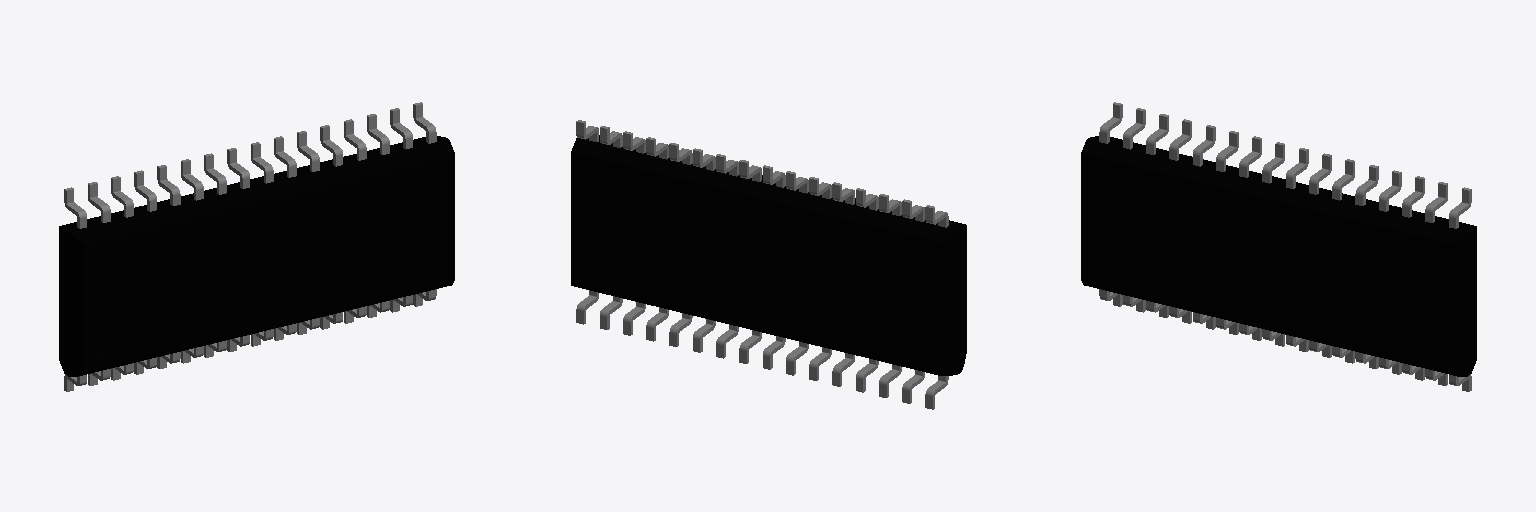
The model's file is SOICs.obj.
3 views of the same model, side by side, from view 1: azimuth 30°, elevation 25°; view 2: azimuth 150°, elevation 25°; view 3: azimuth 330°, elevation 25° (orthographic).
Size of the model in its own units: 20.8 by 10.5 by 2.5.